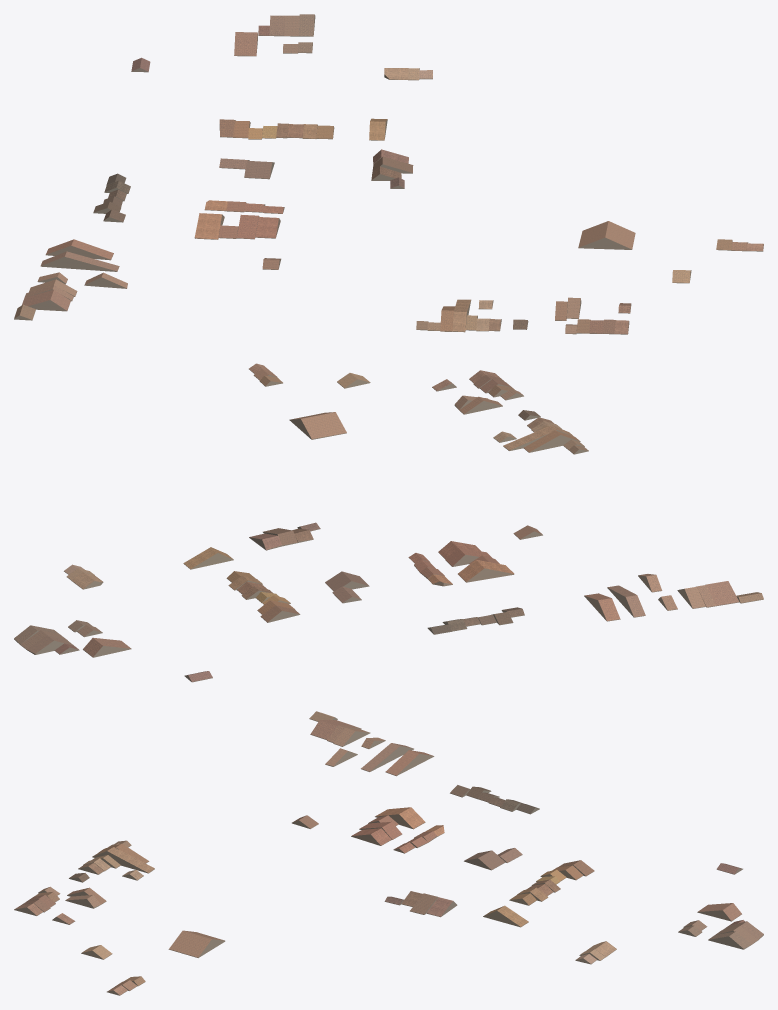
3 renders of one model, top to bottom at view 1: azimuth 30°, elevation 25°; view 2: azimuth 150°, elevation 25°; view 3: azimuth 270°, elevation 25°, orthographic. The views are drawn at different scales.
Parts seen in each view (by area): view 1: interlock, flat-clay, barrel, render; view 2: interlock, render, flat-clay, barrel; view 3: interlock, render, flat-clay, barrel.
Part boxes in pixels (left/top/right/bottom): interlock: left=14, top=14, right=747, bottom=333; flat-clay: left=29, top=15, right=732, bottom=333; barrel: left=104, top=68, right=763, bottom=334; render: left=14, top=15, right=763, bottom=334; interlock: left=14, top=369, right=763, bottom=681; render: left=14, top=369, right=763, bottom=682; flat-clay: left=20, top=375, right=705, bottom=649; barrel: left=72, top=363, right=573, bottom=630; interlock: left=22, top=711, right=763, bottom=990; render: left=14, top=717, right=763, bottom=995; flat-clay: left=34, top=728, right=757, bottom=985; barrel: left=14, top=797, right=616, bottom=994.
Size of the model in its own units: 228 by 4.03 by 257.
4 materials, 4 textured.
